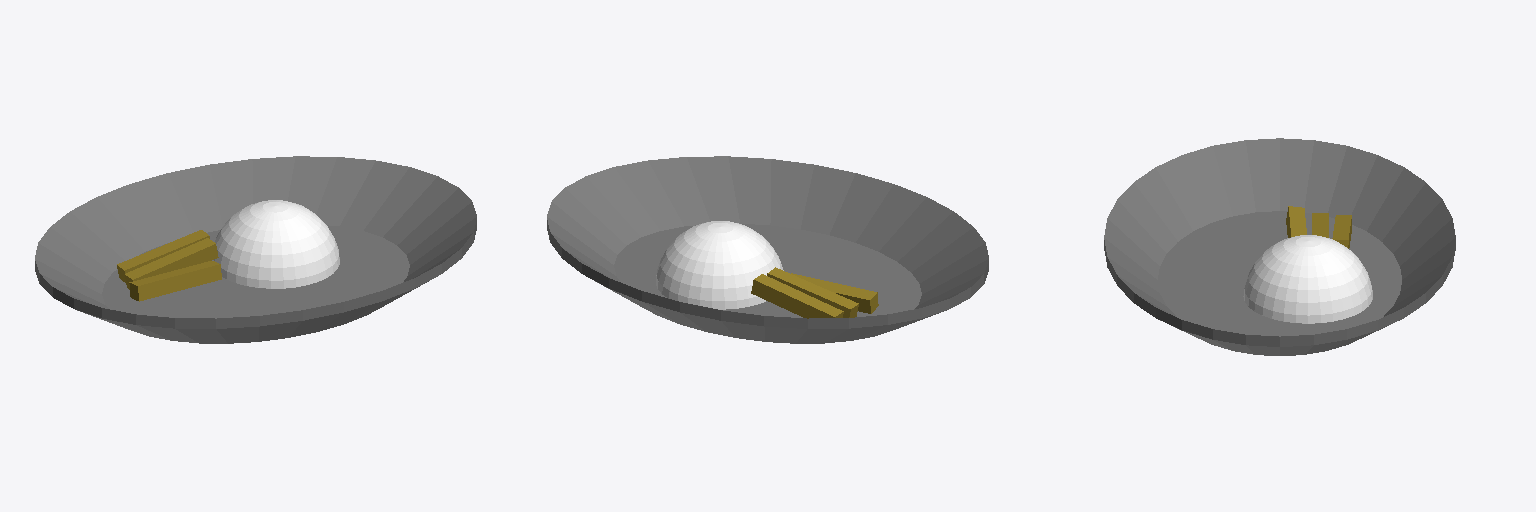
Rendered from rice1_meat1_veg0.obj.
The picture shows the model from 3 angles: view 1: azimuth 30°, elevation 25°; view 2: azimuth 150°, elevation 25°; view 3: azimuth 270°, elevation 25°; orthographic projection.
Parts seen in each view (by area): view 1: Cylinder, Sphere, Cube.002_Cube.003, Cube.001_Cube.002, Cube_Cube.001; view 2: Cylinder, Sphere, Cube_Cube.001, Cube.001_Cube.002, Cube.002_Cube.003; view 3: Cylinder, Sphere, Cube.002_Cube.003.
Boxes of the visible parts, x1=… form: Cylinder: x1=35, y1=156, x2=476, y2=343; Sphere: x1=212, y1=200, x2=339, y2=288; Cube.002_Cube.003: x1=129, y1=261, x2=221, y2=301; Cube.001_Cube.002: x1=125, y1=238, x2=218, y2=289; Cube_Cube.001: x1=117, y1=230, x2=209, y2=282; Cylinder: x1=547, y1=156, x2=988, y2=343; Sphere: x1=656, y1=221, x2=783, y2=309; Cube_Cube.001: x1=751, y1=274, x2=843, y2=318; Cube.001_Cube.002: x1=767, y1=267, x2=858, y2=317; Cube.002_Cube.003: x1=791, y1=273, x2=878, y2=313; Cylinder: x1=1104, y1=138, x2=1455, y2=355; Sphere: x1=1243, y1=235, x2=1372, y2=323; Cube.002_Cube.003: x1=1286, y1=206, x2=1306, y2=237.
Bounding box in the file's own units: 5.75 × 0.85 × 4.31.